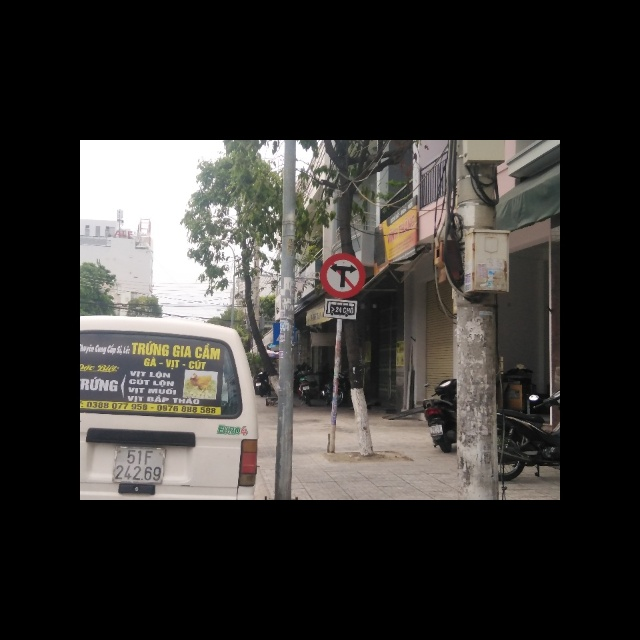Cấm rẽ trái và rẽ phải: (320, 253, 367, 300)
